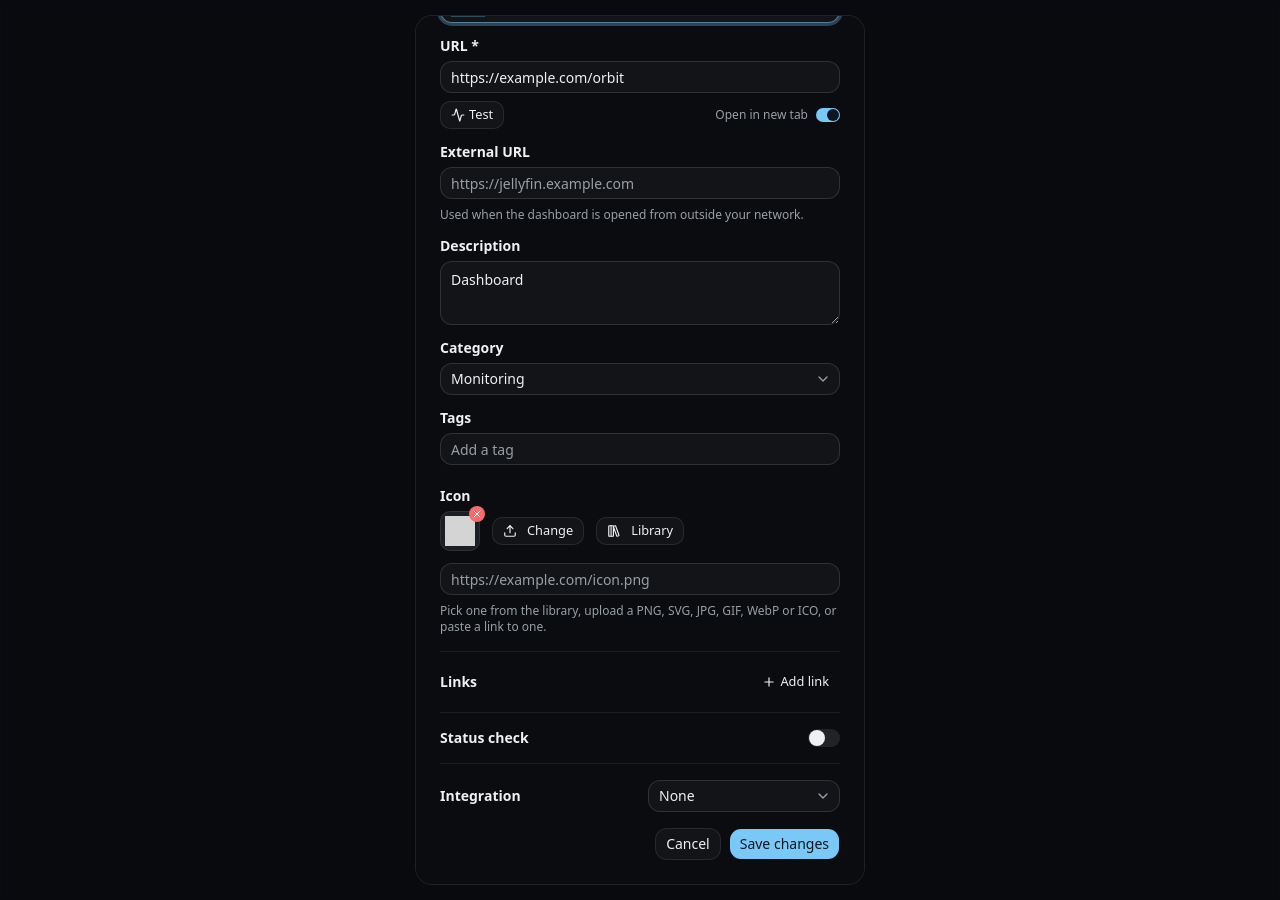
ServiceDialog integrations › doesn't save the service while a required field is empty
(page scrolled)
Click the dropdown named "Integration" at (744, 796), box [648,780,840,812]
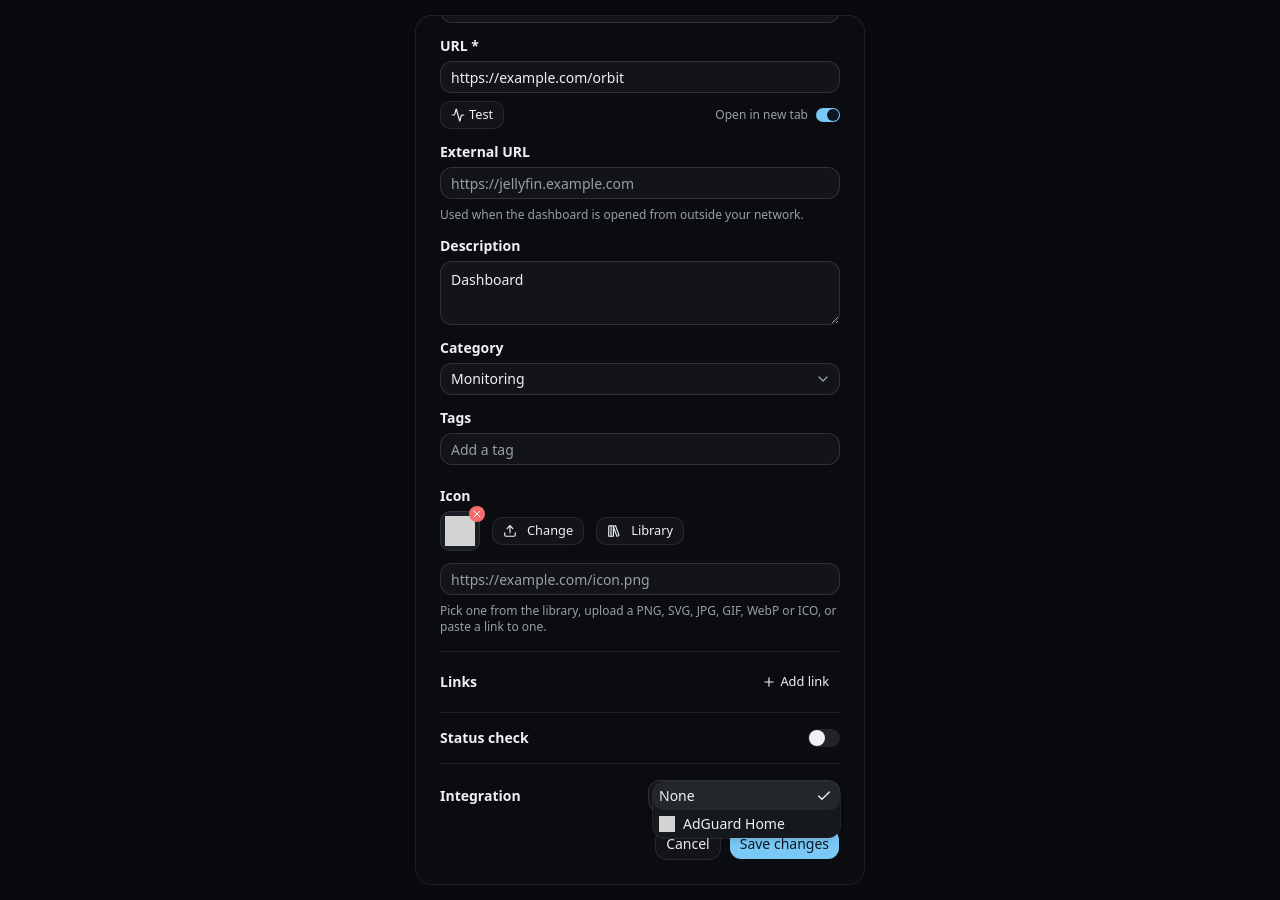
Click the option "AdGuard Home" at (722, 824), box [659,814,785,833]
(page scrolled)
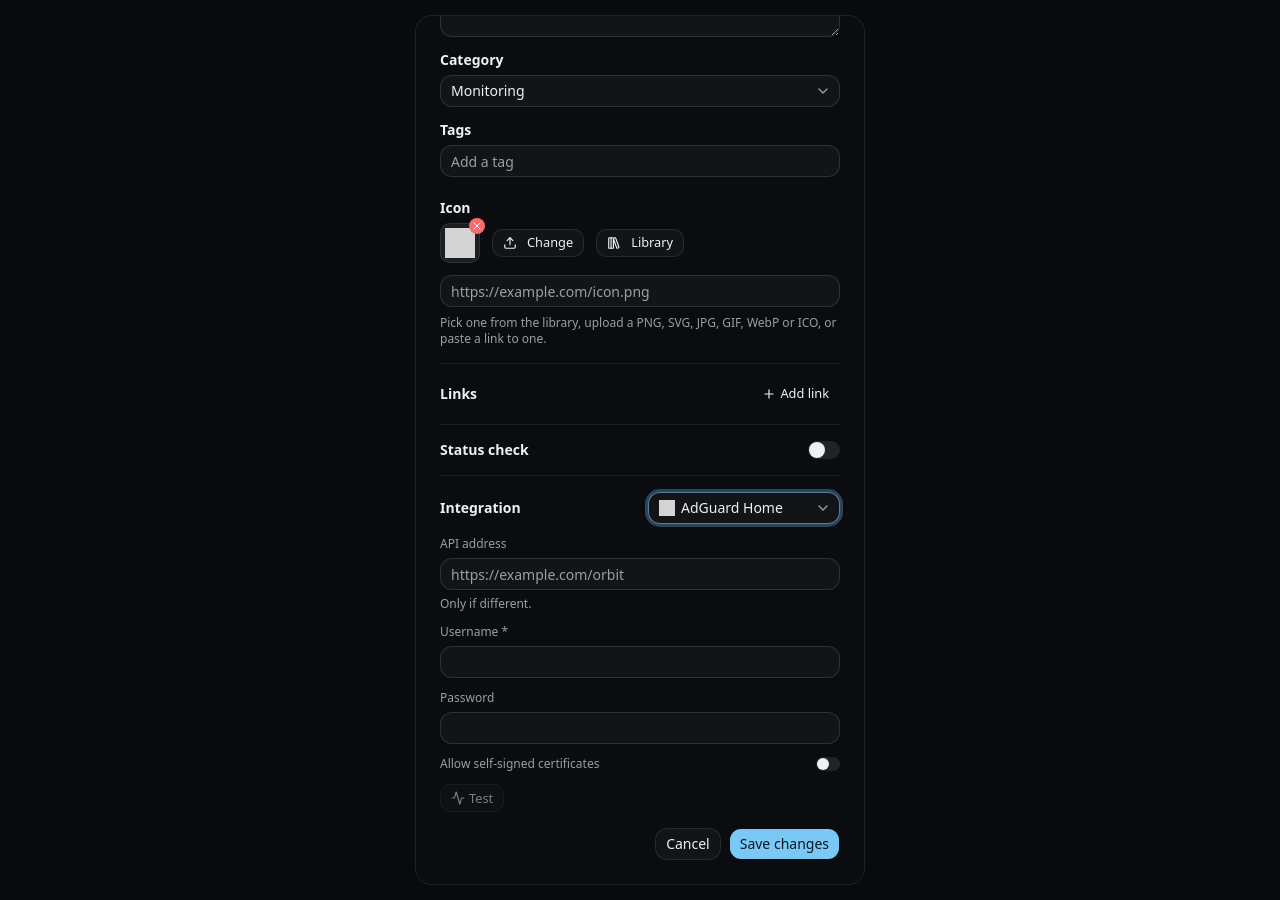
Click the button "Save changes" at (784, 844), box [729,828,840,860]
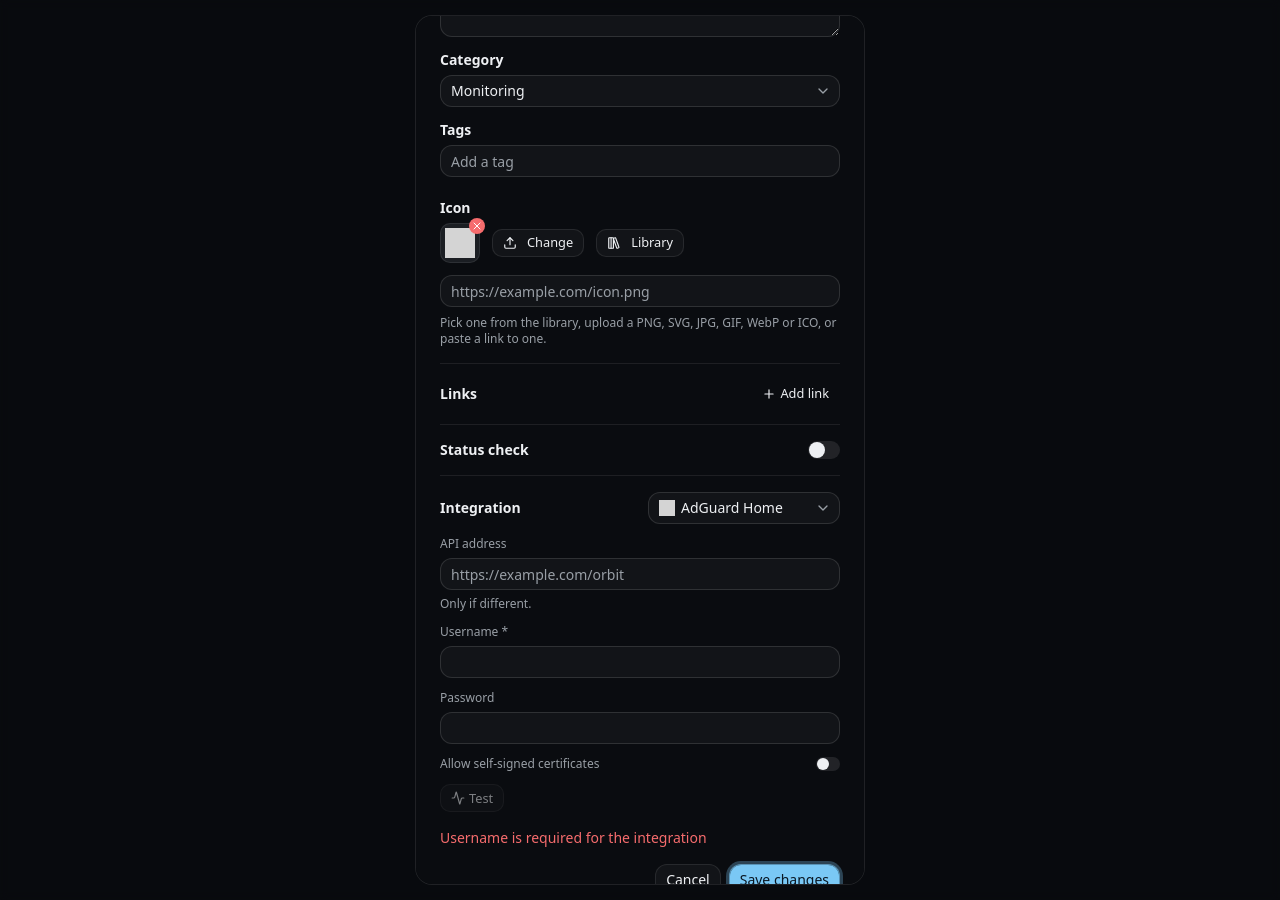
Check: the text "Username is required for the integration" is shown, box [440,828,706,847]
